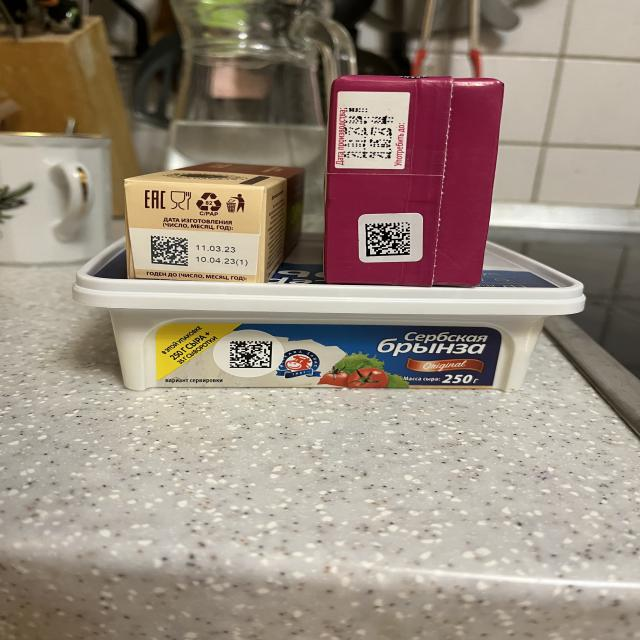datamatrix: (366, 223, 411, 258), (231, 342, 274, 370), (152, 237, 189, 268)
